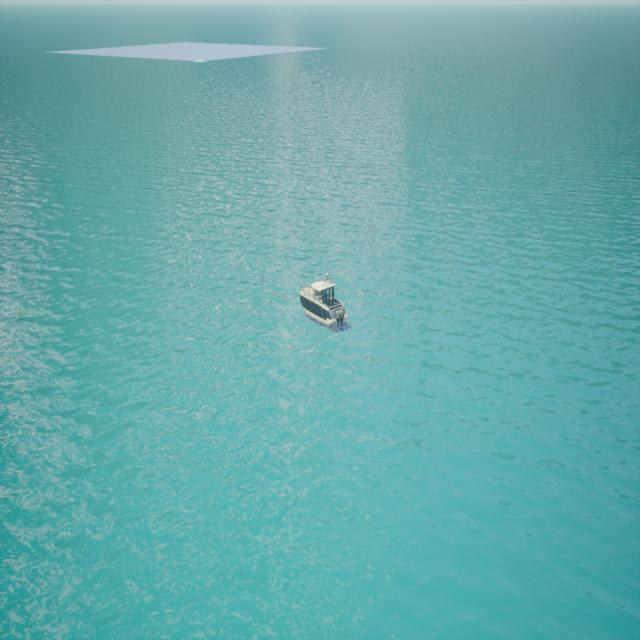ship: (298, 278, 348, 334)
